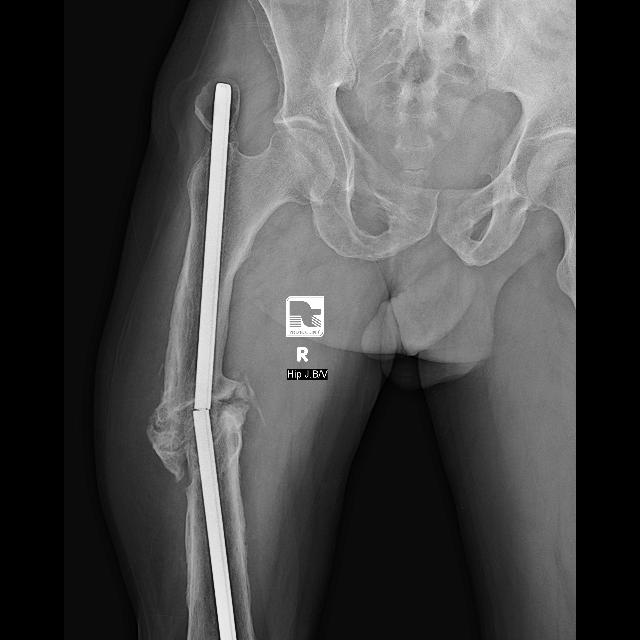Fracture: (143, 368, 271, 497)
